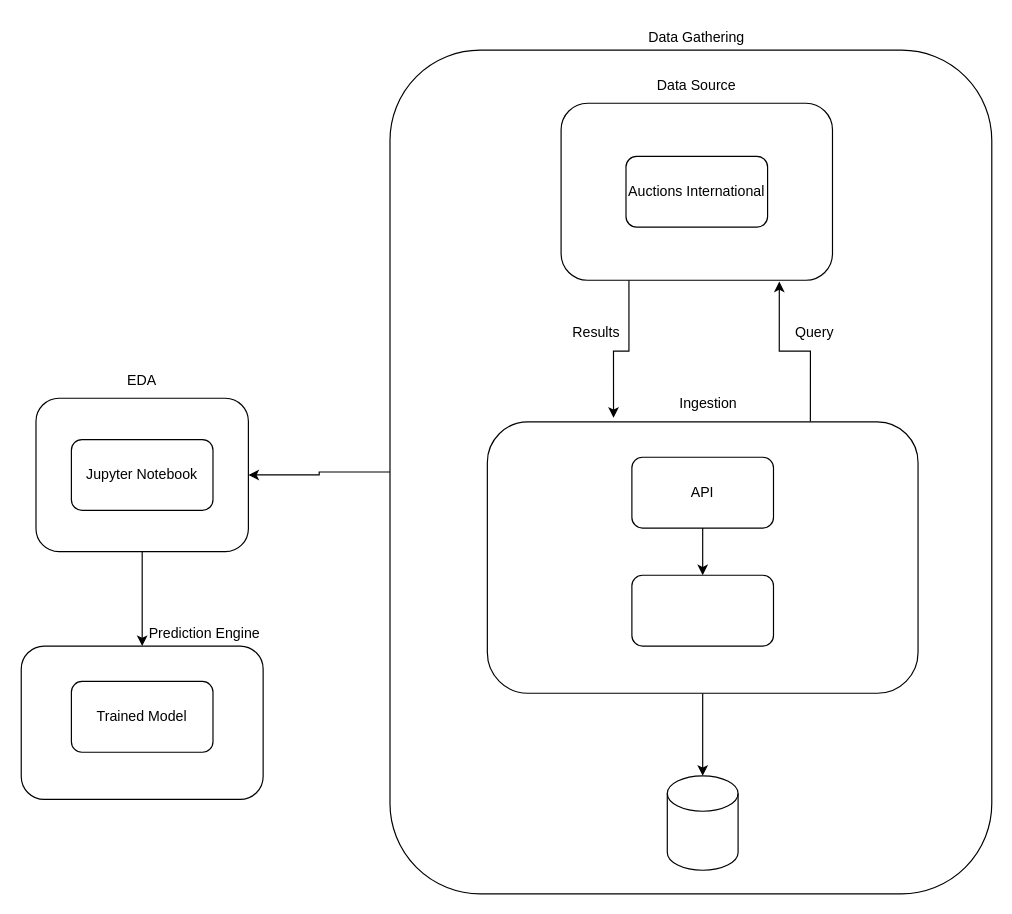
This 1012x914 diagram has some shape labels left out. The centre of each missing label's shape, as x and y in pixels:
Data Models: pixel 702 610
SQL DB: pixel 702 822
